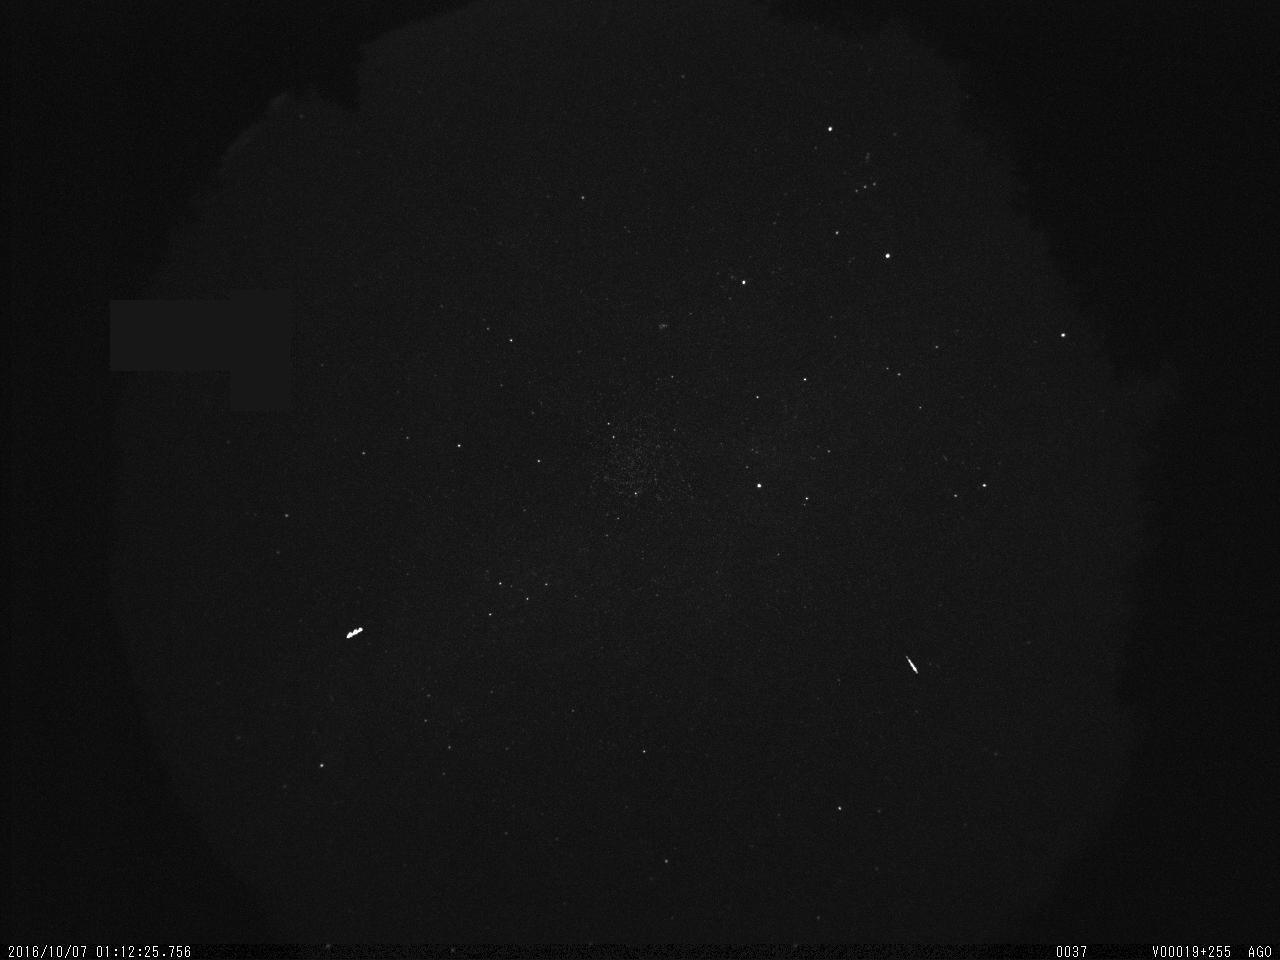meteor: (897, 649, 923, 681)
satelite: (340, 617, 369, 646)
